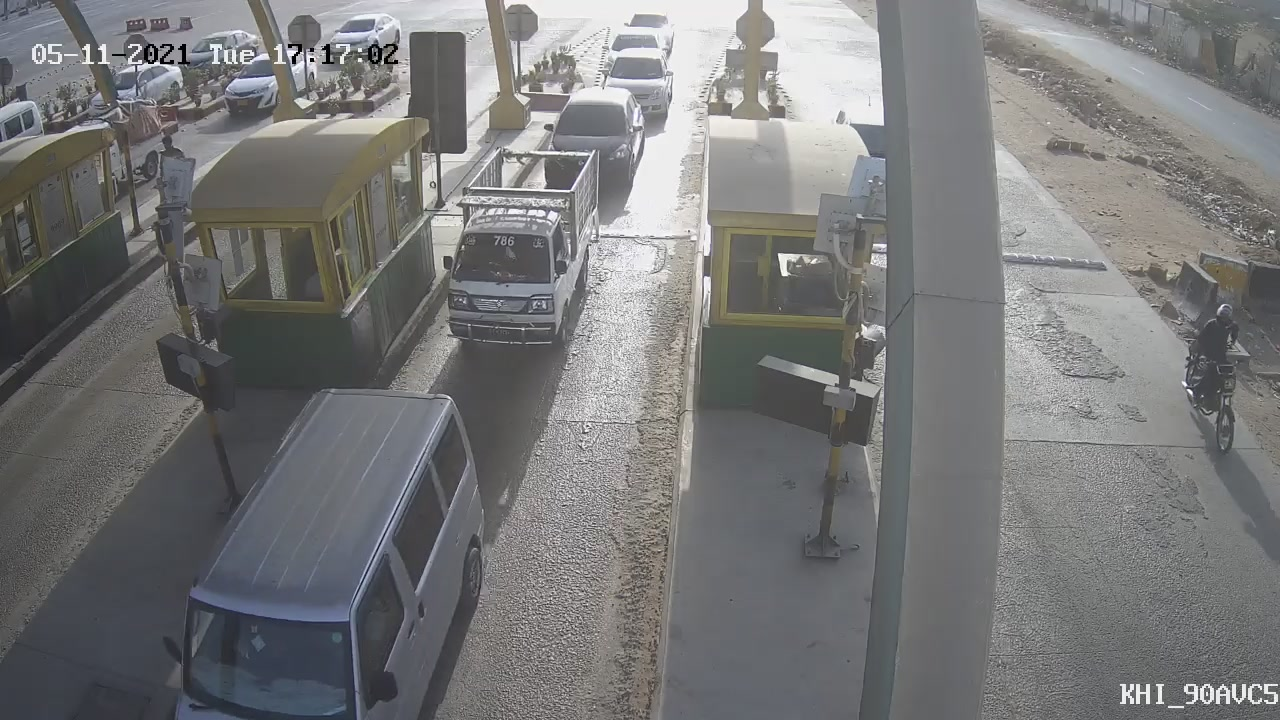F1: (434, 145, 615, 369), (535, 75, 657, 203)
